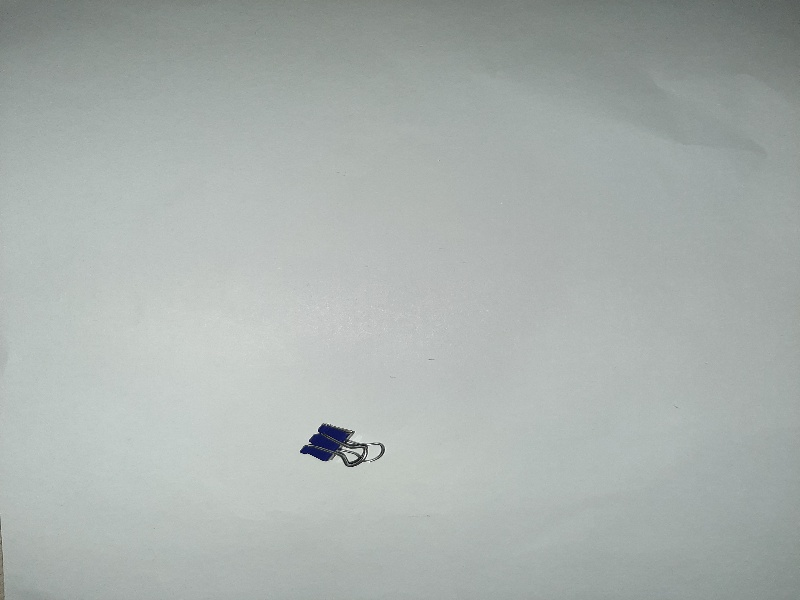Small Paperclip: (297, 415, 392, 471)
